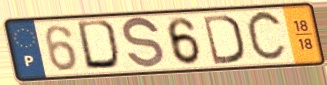6: (165, 16, 203, 68), (42, 23, 80, 73)
C: (244, 8, 289, 66)
D: (74, 18, 125, 73), (201, 13, 246, 66)
S: (120, 15, 166, 72)
